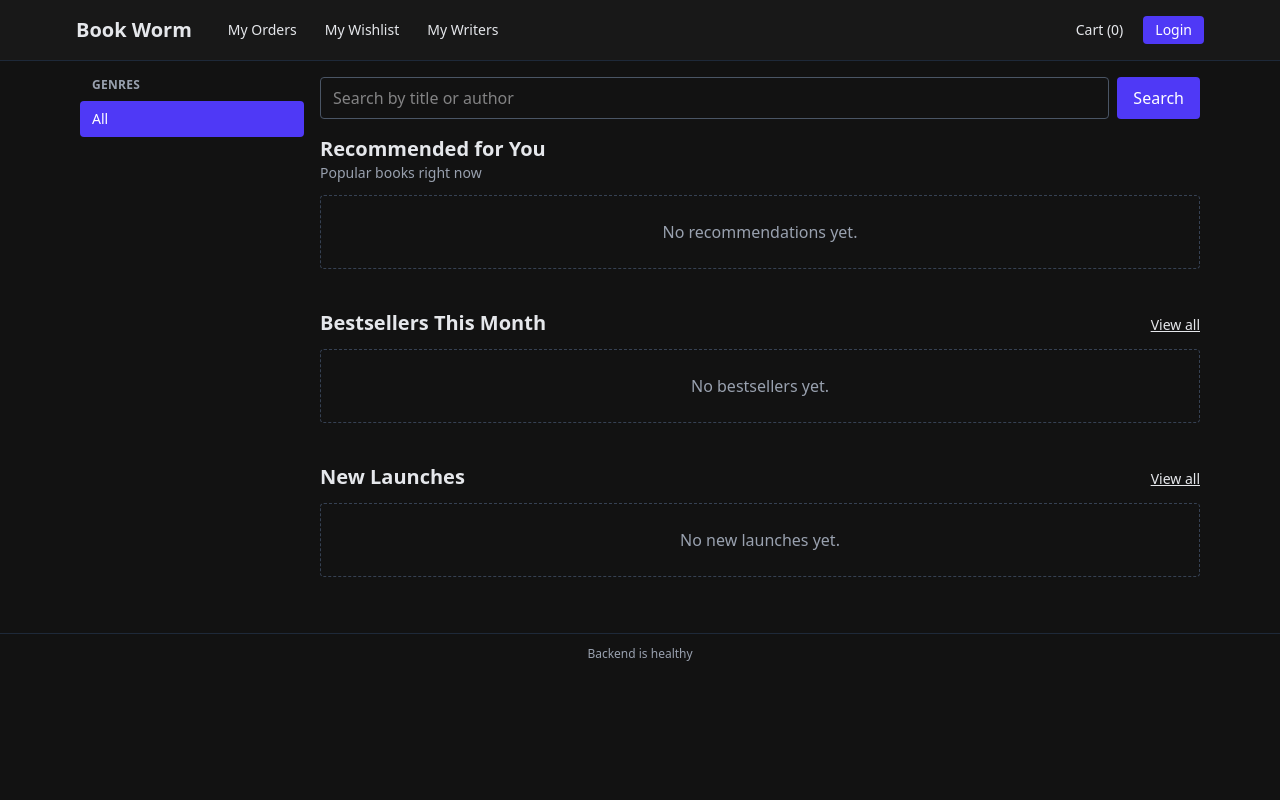
Test: LoginModal › offers Forgot password (coming soon), Sign Up and Continue as Guest
Click the button "Login" at (1174, 30), box left=1143, top=16, right=1204, bottom=44
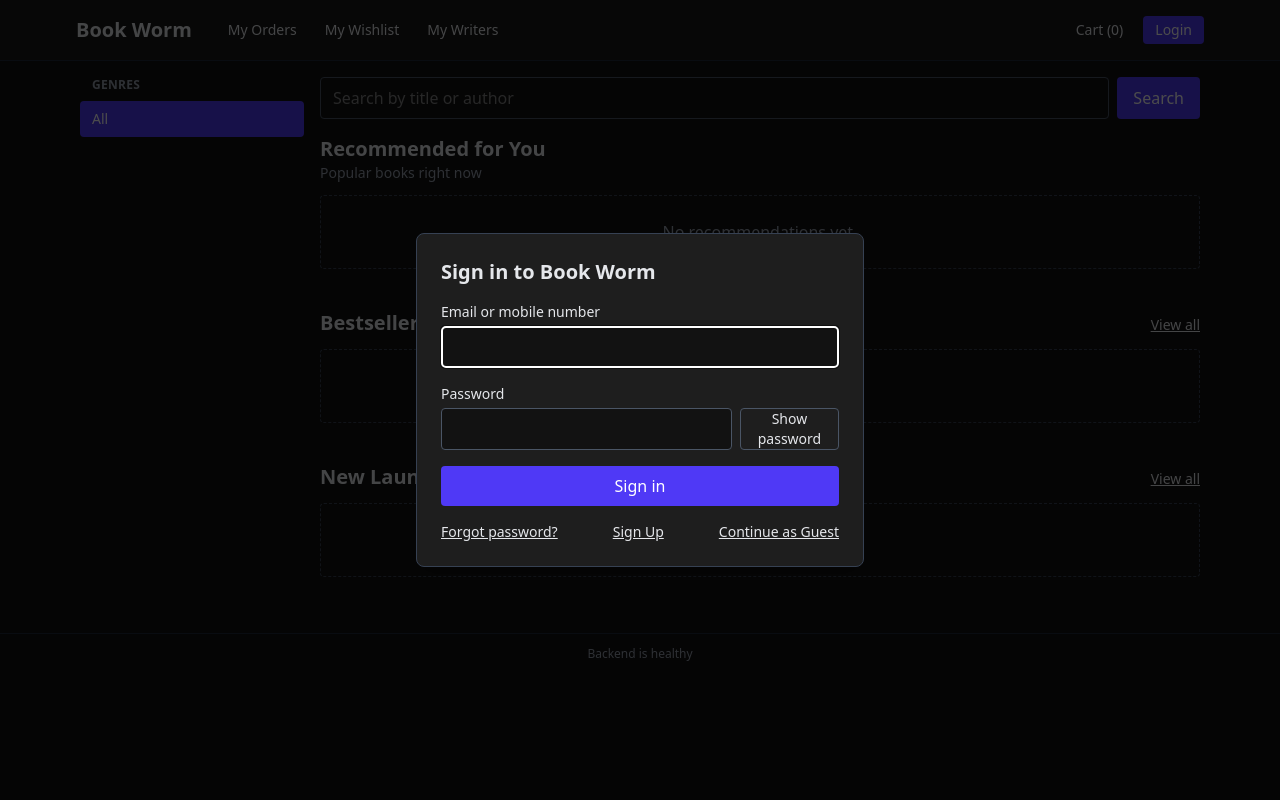
Click the button "Forgot password?" at (499, 532), box left=441, top=522, right=558, bottom=542
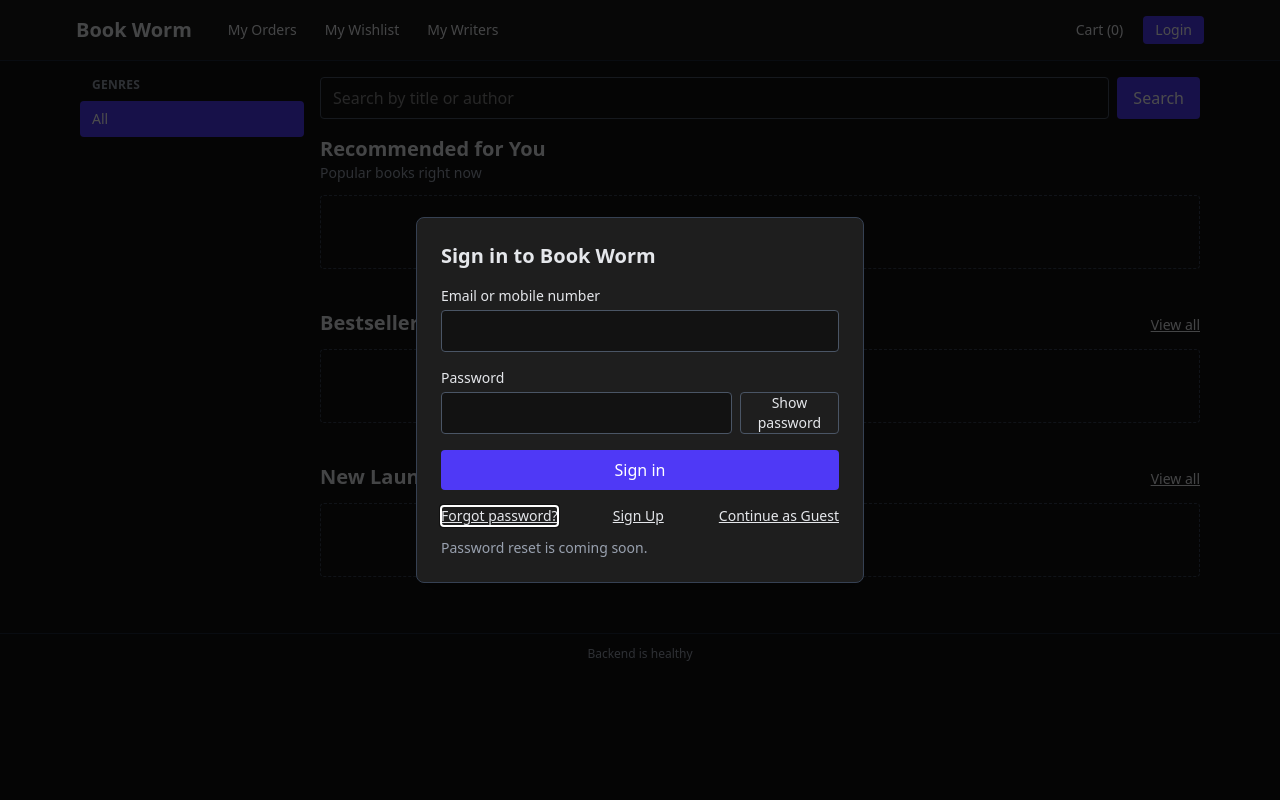
Expected: the button "Sign Up" is shown, left=613, top=506, right=664, bottom=526
Expected: the text "Password reset is coming soon." is shown, left=441, top=538, right=648, bottom=557
Click the button "Continue as Guest" at (779, 516), box left=719, top=506, right=839, bottom=526
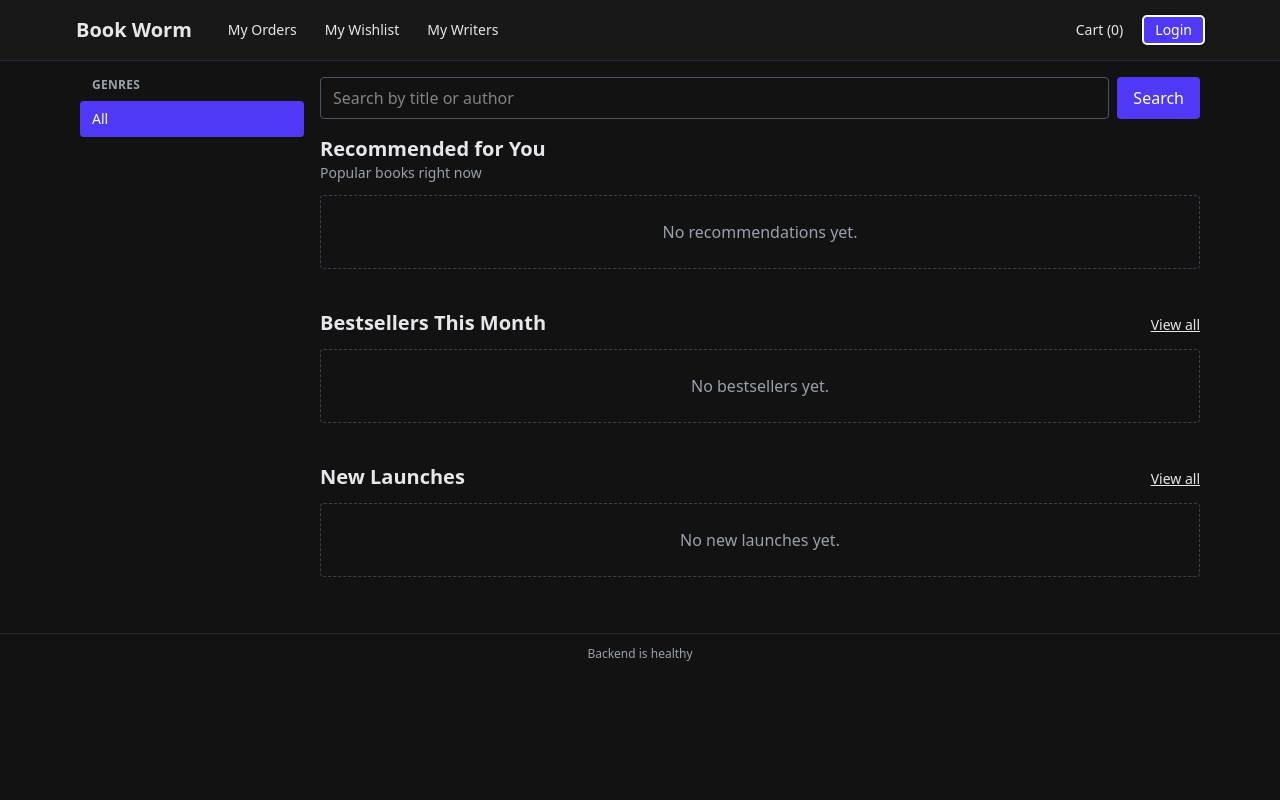
Expected: the dialog is gone
